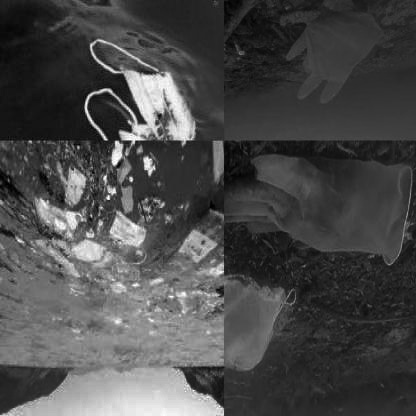Mask: (82, 32, 203, 139), (224, 264, 309, 409)
glove: (224, 142, 415, 260), (281, 3, 389, 108), (103, 202, 156, 261)
